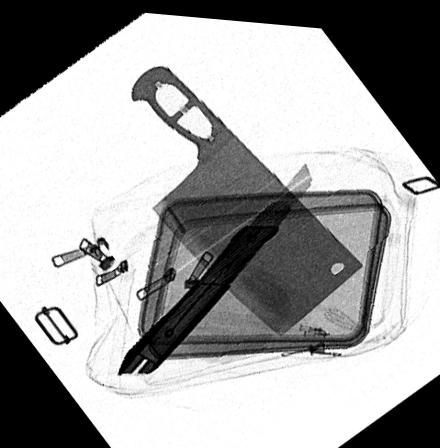Knife: (129, 61, 364, 331), (115, 155, 311, 374)
